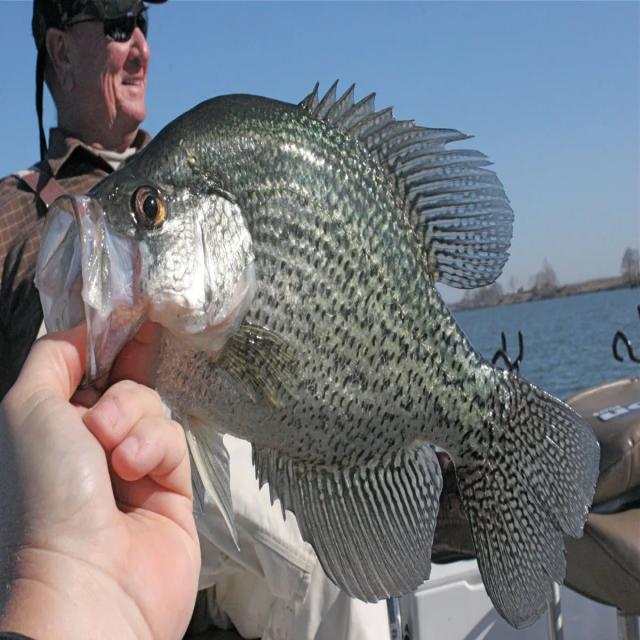Crappie - Black: (35, 86, 599, 625)
